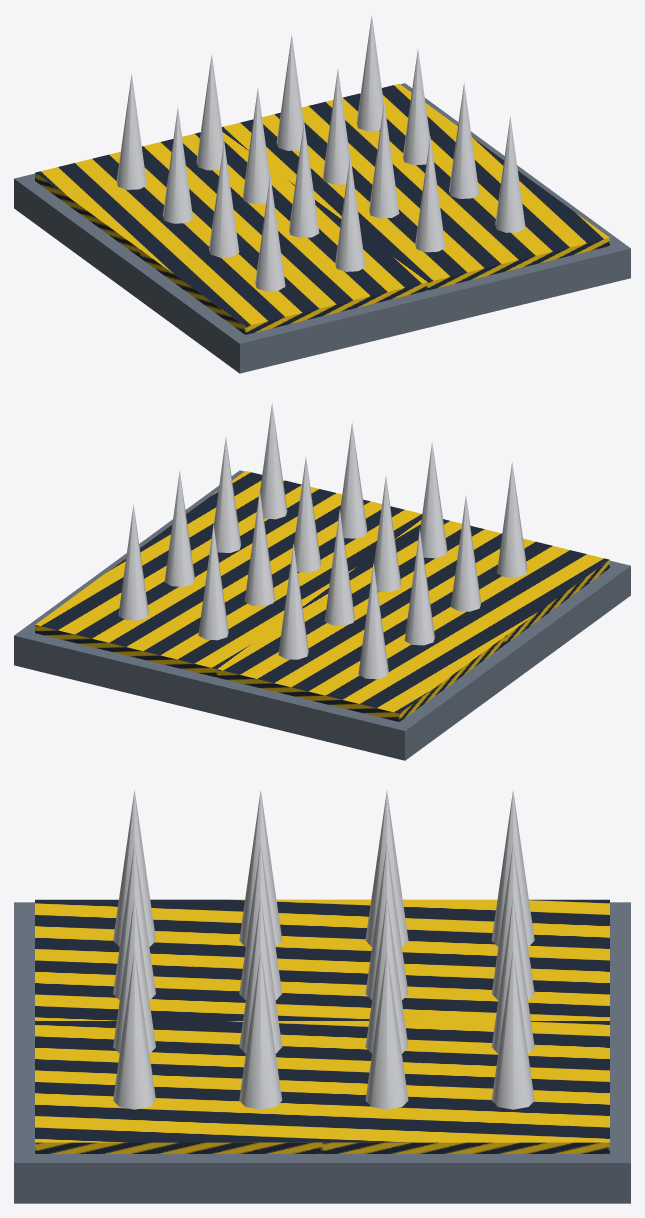
Rendered from spike_trap_floor.glb.
The picture shows the model from 3 angles, top to bottom: view 1: azimuth 30°, elevation 25°; view 2: azimuth 150°, elevation 25°; view 3: azimuth 270°, elevation 25°; orthographic projection. The views are drawn at different scales.
Visible parts, largest first — view 1: spike_trap_floor, spikes_pivot; view 2: spike_trap_floor, spikes_pivot; view 3: spike_trap_floor, spikes_pivot.
Boxes of the visible parts, left/top/right/bottom form: spike_trap_floor: left=14, top=83, right=630, bottom=373; spikes_pivot: left=116, top=14, right=525, bottom=291; spike_trap_floor: left=14, top=470, right=630, bottom=760; spikes_pivot: left=118, top=402, right=527, bottom=679; spike_trap_floor: left=14, top=899, right=630, bottom=1203; spikes_pivot: left=113, top=790, right=534, bottom=1109.
Size of the model in its own units: 2.2 by 0.8 by 2.2.
Materials: 3 (1 with a texture image).
